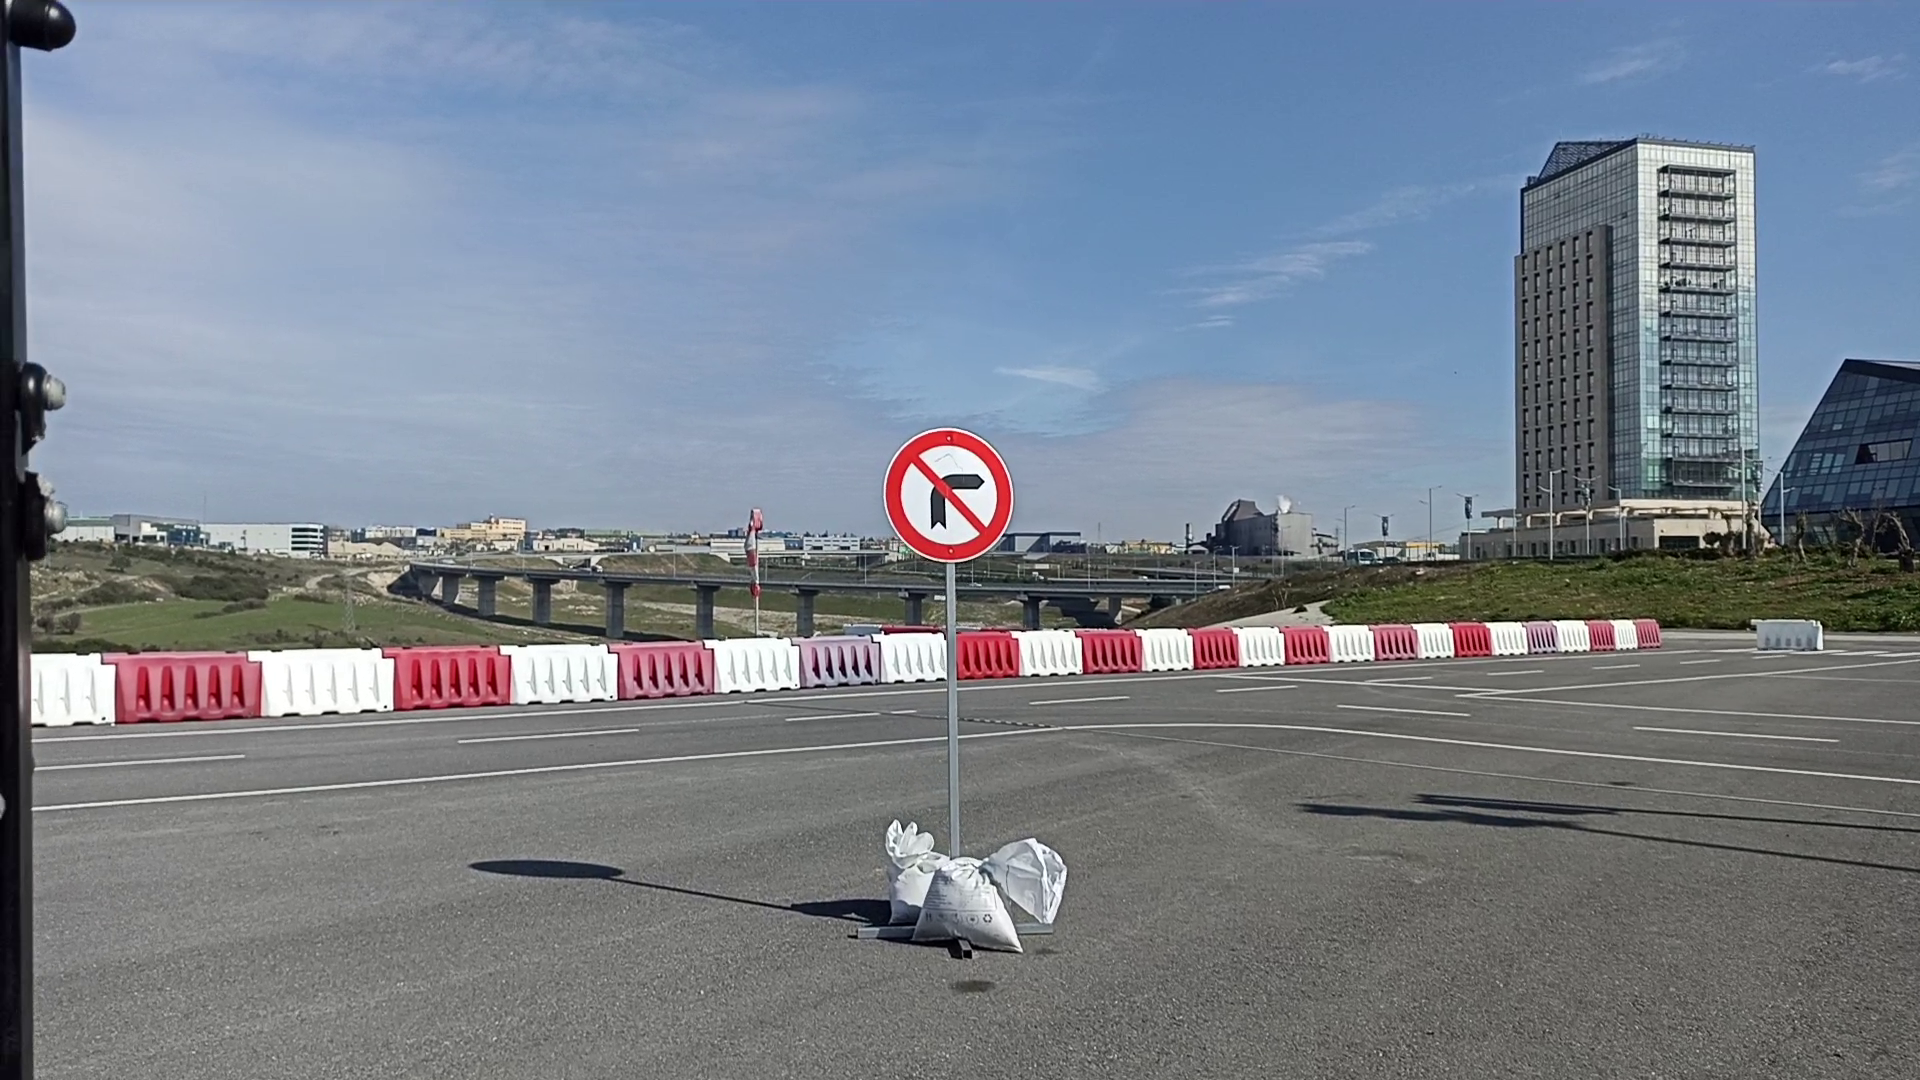noleftturn: (880, 425, 1021, 566)
